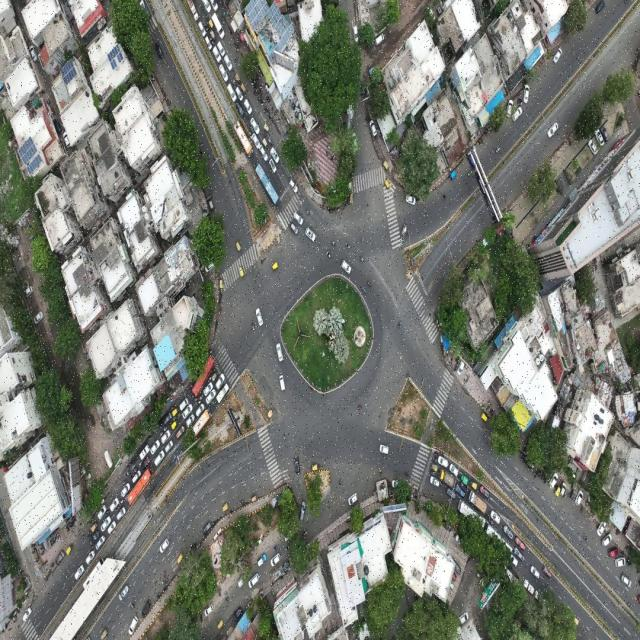3W: (214, 616, 226, 632), (174, 551, 186, 566), (97, 628, 113, 639), (270, 258, 281, 272), (65, 542, 75, 557), (248, 491, 259, 504), (261, 121, 271, 135), (448, 168, 458, 181), (480, 411, 489, 425), (470, 477, 479, 491), (220, 502, 230, 514), (310, 460, 320, 472), (238, 265, 246, 280), (234, 239, 242, 254), (208, 29, 217, 42), (262, 137, 270, 151), (429, 462, 439, 473), (171, 419, 180, 431), (555, 485, 562, 499), (208, 19, 215, 32), (240, 82, 247, 95), (383, 179, 390, 192), (90, 522, 98, 532), (382, 162, 390, 172), (235, 72, 241, 85), (212, 372, 219, 382), (572, 616, 579, 626)
Bus: (125, 464, 157, 509), (190, 352, 219, 398), (484, 518, 513, 559), (255, 162, 280, 209), (83, 552, 105, 594), (457, 499, 485, 528), (232, 121, 252, 161), (193, 407, 212, 439)
Cars: (141, 592, 154, 620), (127, 611, 139, 638), (73, 560, 86, 583), (593, 126, 605, 149), (118, 582, 131, 603), (20, 604, 33, 624), (154, 445, 165, 468), (226, 81, 237, 104), (299, 497, 308, 525), (159, 536, 172, 555), (586, 137, 599, 156), (218, 62, 229, 84), (546, 122, 560, 139), (54, 550, 67, 568), (258, 142, 269, 163), (89, 529, 101, 548), (340, 257, 352, 276), (97, 502, 110, 519), (247, 572, 260, 589), (346, 490, 359, 507), (85, 547, 96, 567), (599, 122, 610, 142), (287, 177, 299, 195), (232, 603, 243, 622), (234, 98, 245, 117), (242, 96, 253, 115), (552, 46, 563, 65), (601, 531, 613, 548), (223, 52, 233, 72), (215, 373, 226, 391), (275, 342, 284, 364), (255, 305, 264, 327), (250, 117, 261, 135), (490, 507, 501, 525), (269, 552, 282, 567), (620, 574, 633, 589), (95, 535, 107, 551), (149, 438, 161, 454), (513, 546, 525, 562), (277, 374, 287, 393), (251, 131, 261, 150), (270, 146, 280, 165), (292, 453, 301, 474), (512, 107, 523, 124), (131, 470, 143, 485), (141, 456, 151, 474), (212, 46, 222, 64), (305, 227, 317, 242), (369, 117, 378, 137), (351, 132, 360, 152), (596, 519, 606, 537), (109, 497, 120, 513), (293, 210, 304, 226), (374, 32, 385, 48), (595, 0, 606, 16), (515, 536, 526, 552), (379, 441, 390, 457), (207, 193, 216, 212), (198, 19, 207, 38), (268, 155, 277, 174), (176, 425, 186, 442), (154, 42, 164, 59), (549, 472, 559, 489), (503, 525, 514, 540), (101, 516, 111, 532), (117, 507, 127, 523), (216, 41, 226, 57), (506, 99, 514, 119), (574, 490, 584, 506), (530, 564, 540, 580), (607, 546, 619, 559), (615, 557, 628, 569), (479, 486, 491, 499), (182, 405, 193, 419), (209, 0, 220, 14), (455, 485, 466, 499), (235, 85, 244, 102), (352, 25, 360, 44), (108, 520, 118, 535), (121, 482, 131, 497), (202, 521, 212, 536), (203, 382, 213, 397), (206, 390, 216, 405), (205, 603, 215, 618), (237, 574, 247, 589), (257, 553, 267, 568), (543, 565, 553, 580), (524, 82, 531, 103), (204, 36, 213, 52), (405, 193, 417, 205), (438, 456, 449, 469), (429, 476, 440, 489), (289, 221, 299, 235), (360, 78, 367, 98), (457, 359, 464, 379), (446, 487, 456, 501), (449, 463, 459, 477), (160, 430, 171, 442), (163, 412, 173, 425), (186, 414, 196, 427), (201, 0, 211, 13), (560, 482, 567, 499), (196, 404, 205, 417), (510, 555, 519, 567), (166, 442, 174, 454)
LCV: (211, 8, 226, 41), (214, 383, 230, 407), (521, 577, 536, 599), (186, 0, 199, 23), (138, 444, 150, 461), (460, 472, 469, 487), (180, 398, 189, 411)
M2W: (336, 473, 345, 489), (357, 402, 364, 416), (581, 532, 589, 544), (626, 600, 633, 611), (366, 277, 372, 289), (361, 283, 367, 295), (440, 192, 447, 202), (305, 205, 311, 216), (80, 532, 85, 544), (495, 145, 501, 155), (225, 593, 230, 605), (130, 601, 136, 611), (403, 470, 411, 477), (283, 428, 287, 442), (209, 183, 214, 194), (490, 407, 495, 418), (35, 556, 41, 565), (244, 111, 250, 120), (345, 241, 351, 250), (404, 373, 413, 379), (624, 544, 630, 553), (273, 544, 279, 553), (524, 455, 528, 468), (210, 37, 215, 47), (326, 250, 331, 260), (360, 254, 365, 264), (386, 29, 391, 39), (239, 498, 246, 505), (331, 239, 337, 247), (302, 530, 308, 538), (261, 128, 266, 137), (398, 321, 403, 330), (468, 169, 473, 178), (201, 3, 205, 14), (163, 569, 167, 580), (31, 548, 37, 555), (105, 509, 111, 516), (234, 47, 240, 54), (485, 514, 492, 520), (433, 451, 440, 457), (285, 546, 291, 553), (57, 532, 61, 542), (66, 524, 70, 534), (203, 22, 207, 32), (234, 55, 238, 65), (249, 130, 253, 140), (518, 98, 523, 106), (189, 543, 194, 551), (49, 539, 53, 548), (54, 534, 58, 543), (68, 521, 72, 530), (132, 462, 136, 471), (139, 459, 143, 468), (205, 12, 209, 21), (207, 20, 211, 29), (228, 28, 232, 37), (233, 78, 237, 87), (250, 124, 254, 133), (268, 137, 272, 146), (489, 403, 492, 415), (531, 461, 534, 473), (544, 477, 548, 486), (628, 559, 632, 568), (430, 471, 436, 477), (433, 457, 439, 463), (169, 405, 174, 412), (477, 140, 482, 147), (489, 519, 494, 526), (521, 453, 524, 464), (71, 520, 75, 528), (116, 507, 122, 512), (119, 500, 124, 506), (126, 470, 131, 476), (130, 473, 135, 479), (133, 468, 138, 474), (234, 43, 240, 48), (257, 89, 262, 95), (619, 551, 625, 556), (440, 482, 445, 488), (125, 494, 129, 501), (178, 412, 182, 419), (200, 393, 204, 400), (212, 367, 216, 374), (200, 148, 204, 155), (260, 82, 264, 89), (266, 95, 270, 102), (277, 116, 281, 123), (580, 505, 584, 512), (441, 450, 445, 457), (273, 110, 276, 119), (523, 456, 526, 465), (194, 397, 199, 402), (257, 97, 262, 102), (52, 537, 55, 545), (123, 480, 129, 484), (159, 431, 163, 437), (169, 422, 173, 428), (188, 389, 192, 395), (197, 401, 201, 407), (208, 377, 212, 383), (207, 27, 210, 35), (253, 90, 257, 96), (251, 80, 255, 86), (261, 100, 265, 106), (456, 476, 460, 482), (74, 516, 77, 523), (89, 532, 92, 539), (174, 416, 177, 423), (268, 98, 271, 105), (254, 87, 259, 91), (538, 471, 541, 477), (542, 472, 544, 481), (460, 481, 463, 487), (191, 395, 195, 399), (253, 84, 257, 88), (164, 427, 167, 432), (263, 108, 266, 113), (267, 108, 269, 115)
Truck: (467, 488, 489, 516), (437, 466, 457, 489)
